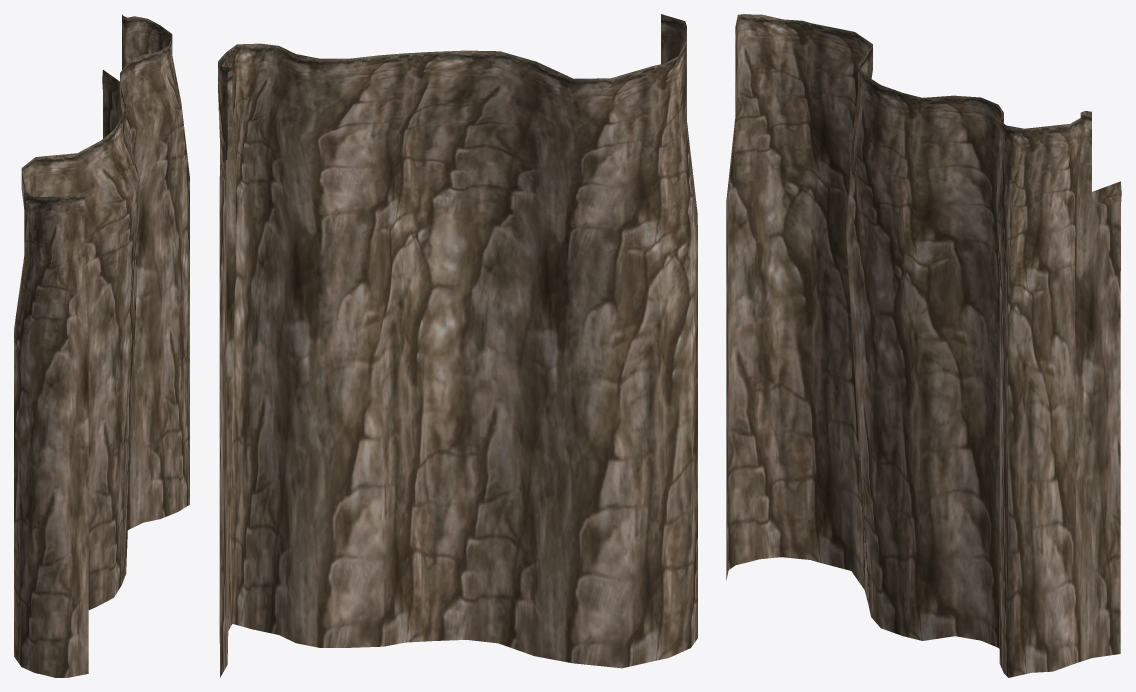
The model's file is OVERHILL_A_01_LINE97.fbx.
3 views of the same model, side by side, from view 1: azimuth 30°, elevation 25°; view 2: azimuth 150°, elevation 25°; view 3: azimuth 270°, elevation 25° (orthographic). The views are drawn at different scales.
Parts seen in each view (by area): view 1: OVERHILL_A_01_LINE97; view 2: OVERHILL_A_01_LINE97; view 3: OVERHILL_A_01_LINE97.
Boxes of the visible parts, <box> form: OVERHILL_A_01_LINE97: <box>14,14,189,677</box>; OVERHILL_A_01_LINE97: <box>218,14,697,677</box>; OVERHILL_A_01_LINE97: <box>726,14,1121,677</box>.
Bounding box in the file's own units: 131066 × 234323 × 145216.
Materials: 2 (2 with a texture image).
